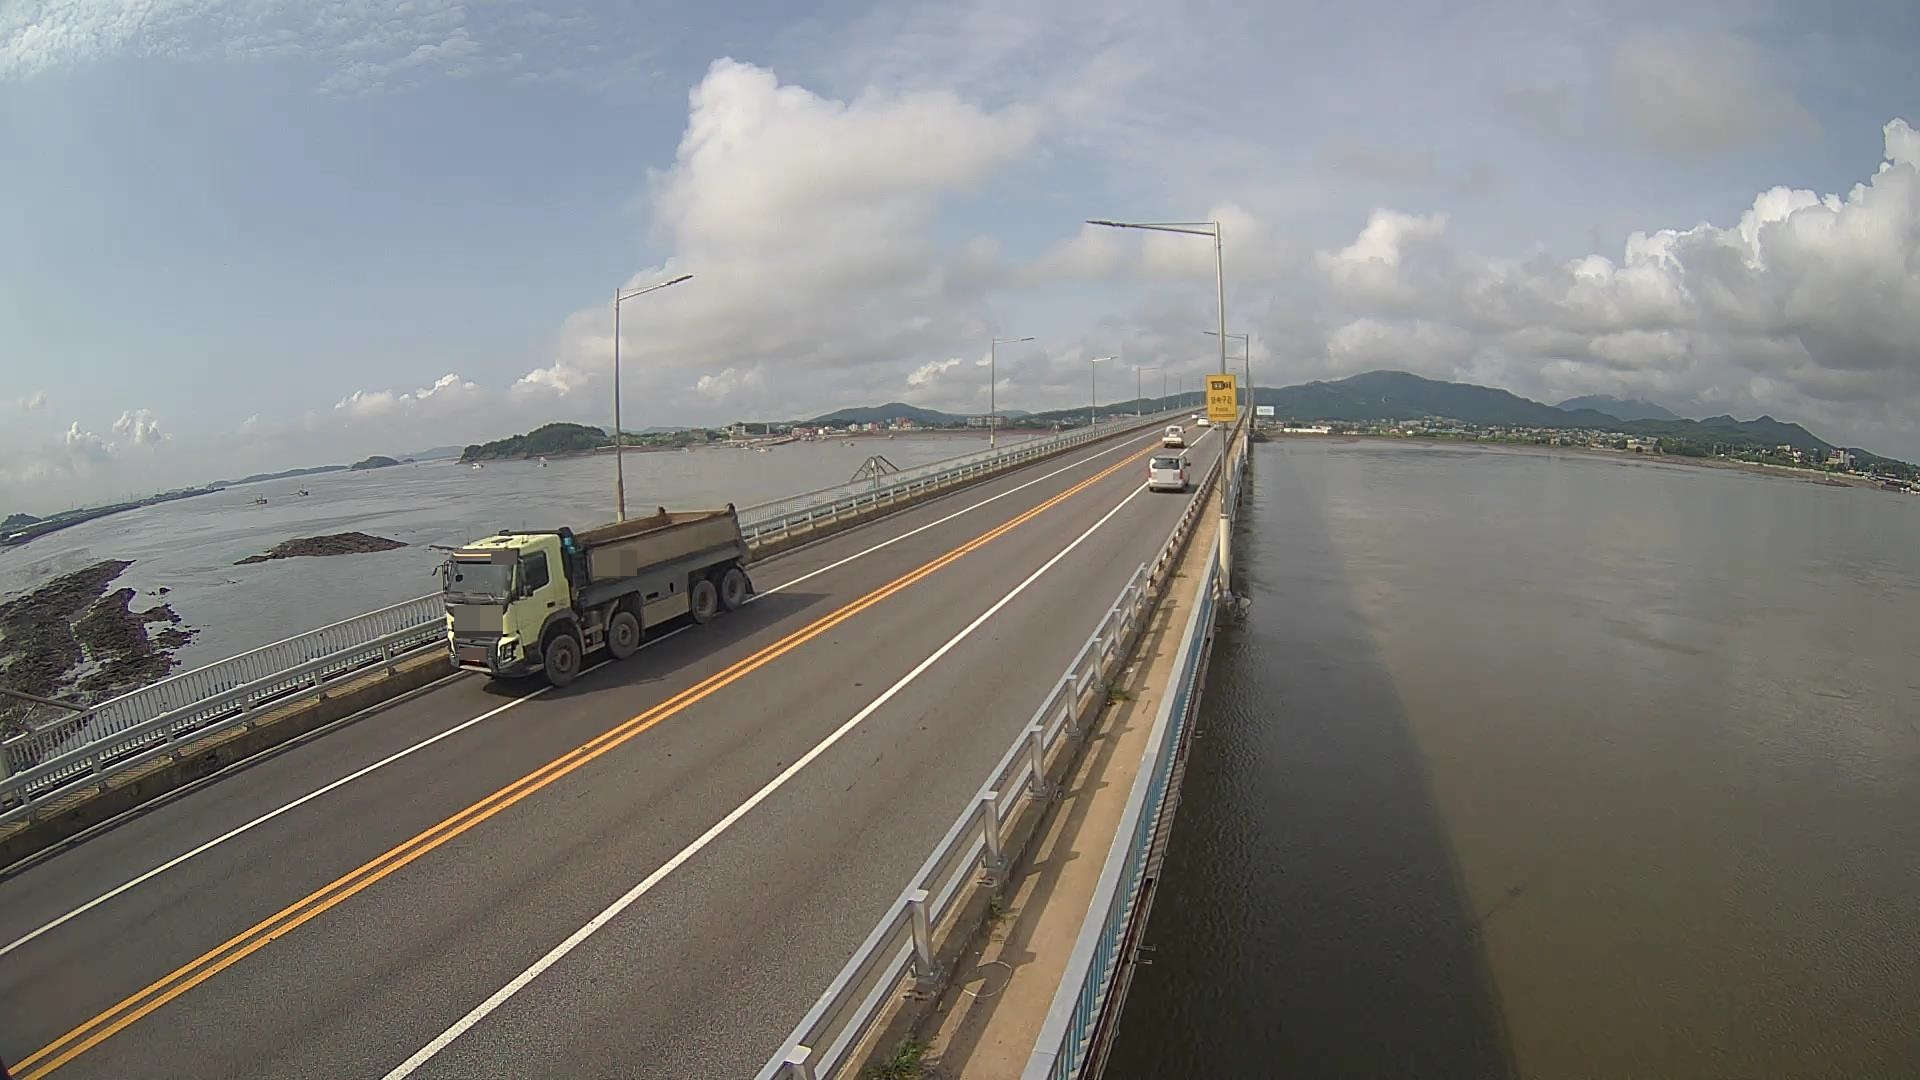정상차량: (430, 504, 754, 686)
